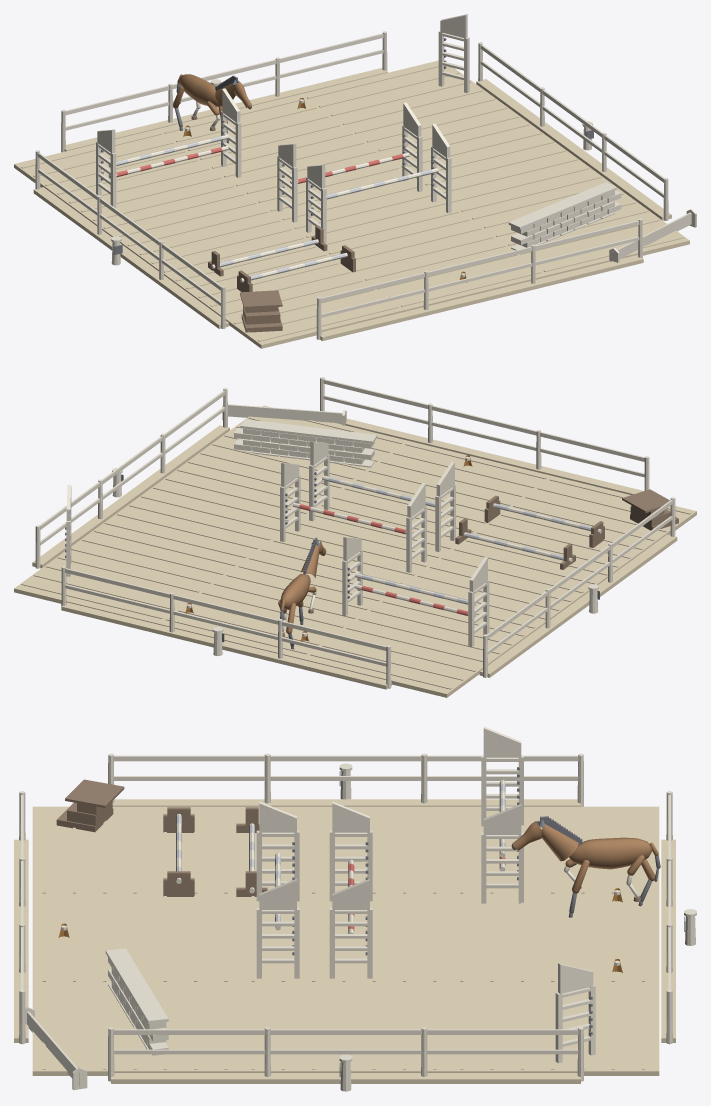
File: arena-and-jump-course.glb
3 renders of one model, top to bottom at view 1: azimuth 30°, elevation 25°; view 2: azimuth 150°, elevation 25°; view 3: azimuth 270°, elevation 25°, orthographic. The views are drawn at different scales.
Visible parts, largest first — view 1: 006-arena-footing-tile/0, 001-arena-footing-tile/0, 005-arena-footing-tile/0, 007-arena-footing-tile/0, 003-arena-footing-tile/0, 000-arena-footing-tile/0, 002-arena-footing-tile/0, 004-arena-footing-tile/0, 008-arena-footing-tile/0, 025-jump-oxer/0, 024-jump-upright/0, 026-jump-wall-block/1 (+30 smaller); view 2: 007-arena-footing-tile/0, 000-arena-footing-tile/0, 006-arena-footing-tile/0, 005-arena-footing-tile/0, 001-arena-footing-tile/0, 003-arena-footing-tile/0, 002-arena-footing-tile/0, 004-arena-footing-tile/0, 008-arena-footing-tile/0, 025-jump-oxer/0, 024-jump-upright/0, 026-jump-wall-block/1 (+31 smaller); view 3: 003-arena-footing-tile/0, 005-arena-footing-tile/0, 007-arena-footing-tile/0, 006-arena-footing-tile/0, 002-arena-footing-tile/0, 008-arena-footing-tile/0, 004-arena-footing-tile/0, 001-arena-footing-tile/0, 000-arena-footing-tile/0, 025-jump-oxer/0, 024-jump-upright/0, 034-horse-trotting/0 (+31 smaller).
Boxes of the visible parts, box(x1,y1,x2,y2) form: 006-arena-footing-tile/0: box(300, 60, 524, 154); 001-arena-footing-tile/0: box(96, 189, 321, 285); 005-arena-footing-tile/0: box(324, 215, 546, 311); 007-arena-footing-tile/0: box(382, 120, 606, 214); 003-arena-footing-tile/0: box(157, 94, 381, 189); 000-arena-footing-tile/0: box(14, 129, 238, 225); 002-arena-footing-tile/0: box(179, 250, 404, 348); 004-arena-footing-tile/0: box(239, 155, 463, 248); 008-arena-footing-tile/0: box(465, 180, 689, 276); 025-jump-oxer/0: box(277, 102, 451, 243); 024-jump-upright/0: box(96, 88, 241, 207); 026-jump-wall-block/1: box(508, 182, 621, 247); 007-arena-footing-tile/0: box(97, 466, 323, 562); 000-arena-footing-tile/0: box(302, 598, 530, 697); 006-arena-footing-tile/0: box(14, 527, 241, 624); 005-arena-footing-tile/0: box(329, 441, 551, 534); 001-arena-footing-tile/0: box(386, 537, 613, 634); 003-arena-footing-tile/0: box(158, 563, 385, 659); 002-arena-footing-tile/0: box(474, 476, 696, 572); 004-arena-footing-tile/0: box(242, 503, 467, 597); 008-arena-footing-tile/0: box(181, 405, 407, 499); 025-jump-oxer/0: box(280, 441, 455, 572); 024-jump-upright/0: box(342, 537, 489, 646); 026-jump-wall-block/1: box(234, 419, 377, 464); 003-arena-footing-tile/0: box(450, 894, 659, 982); 005-arena-footing-tile/0: box(32, 894, 241, 982); 007-arena-footing-tile/0: box(241, 983, 450, 1072); 006-arena-footing-tile/0: box(450, 983, 659, 1075); 002-arena-footing-tile/0: box(32, 806, 241, 894); 008-arena-footing-tile/0: box(32, 983, 241, 1075); 004-arena-footing-tile/0: box(241, 894, 450, 982); 001-arena-footing-tile/0: box(241, 806, 450, 894); 000-arena-footing-tile/0: box(450, 806, 659, 894); 025-jump-oxer/0: box(256, 801, 372, 978); 024-jump-upright/0: box(481, 726, 523, 903); 034-horse-trotting/0: box(513, 821, 658, 893).
Bounding box in the file's own units: 13.46 × 2.17 × 13.08.
